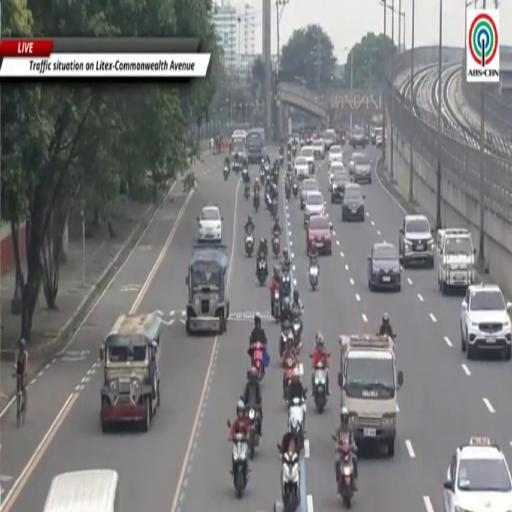car: (444, 437, 511, 511), (460, 284, 511, 360), (436, 230, 475, 294), (399, 215, 436, 268), (368, 243, 401, 291), (306, 216, 332, 254), (198, 205, 223, 242), (342, 183, 365, 221), (304, 191, 325, 227), (436, 228, 470, 249), (331, 169, 351, 203), (300, 179, 319, 210), (352, 154, 372, 183), (329, 160, 345, 185), (300, 146, 314, 174), (294, 156, 309, 181), (349, 152, 365, 174), (350, 127, 366, 149), (328, 144, 342, 165), (324, 130, 337, 150), (313, 139, 325, 159), (376, 127, 384, 148), (370, 127, 375, 146), (339, 131, 345, 146), (232, 130, 246, 136)
jeepney: (339, 334, 403, 456), (100, 314, 161, 431), (186, 244, 229, 333)
motorcycle: (333, 436, 354, 508), (231, 434, 249, 499), (282, 451, 300, 511), (289, 397, 305, 452), (313, 361, 327, 413), (246, 407, 259, 459), (283, 358, 295, 403), (279, 324, 293, 357), (252, 342, 264, 380), (293, 317, 302, 353), (257, 258, 267, 285), (309, 264, 318, 291), (245, 233, 254, 257), (282, 272, 291, 296), (273, 291, 279, 323), (270, 199, 278, 218), (273, 235, 279, 258), (253, 194, 260, 212), (265, 190, 271, 211), (242, 167, 249, 183), (260, 168, 266, 186), (232, 161, 240, 174), (292, 182, 298, 198), (285, 182, 290, 201), (264, 163, 270, 178), (245, 183, 250, 200), (224, 166, 229, 180), (279, 154, 284, 166), (292, 146, 296, 157), (287, 150, 290, 161)
truck: (436, 229, 475, 294)
